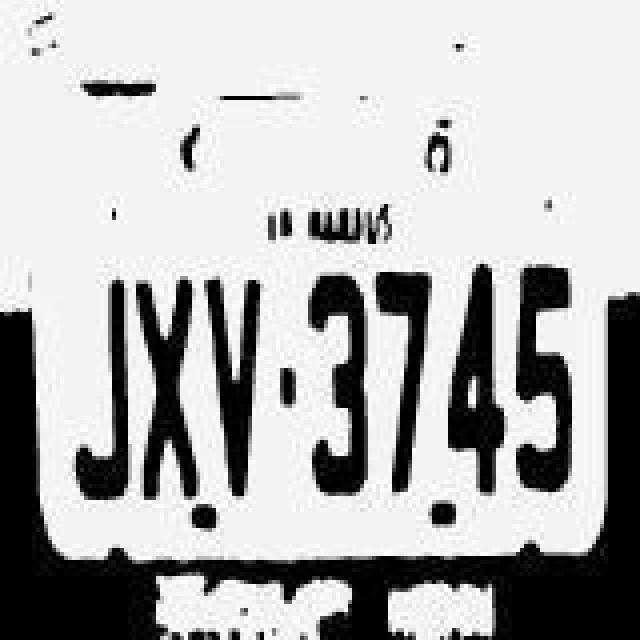3: (310, 280, 378, 496)
4: (442, 272, 510, 496)
5: (514, 258, 590, 494)
7: (376, 262, 440, 490)
J: (62, 276, 130, 500)
V: (206, 264, 274, 504)
X: (134, 270, 202, 498)
